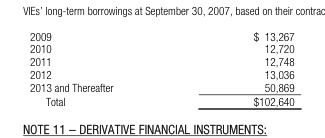table: (29, 29, 293, 106)
table column: (29, 29, 182, 106), (182, 29, 293, 106)
table row: (29, 41, 293, 54), (29, 54, 293, 67), (29, 67, 293, 80), (29, 80, 293, 93), (29, 93, 293, 106), (29, 29, 293, 41)
